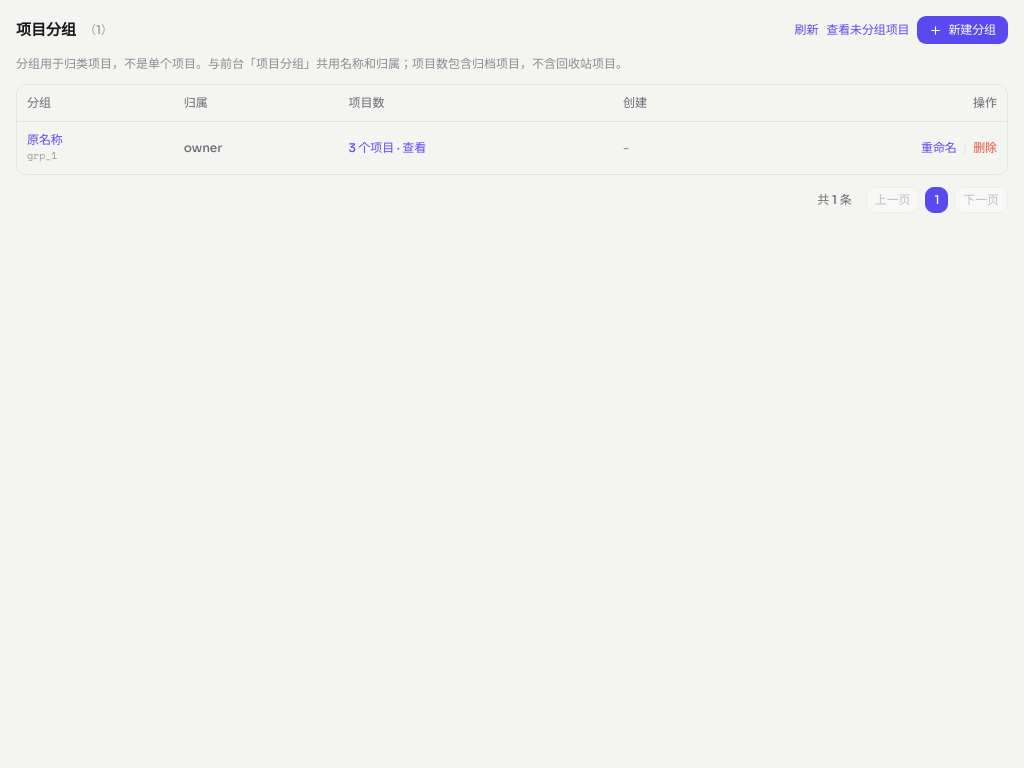
Scenario: project group rename › does not reopen a closed group when a refresh finishes late
Step 1. Click the button "原名称" → (45,140), box left=27, top=132, right=63, bottom=148
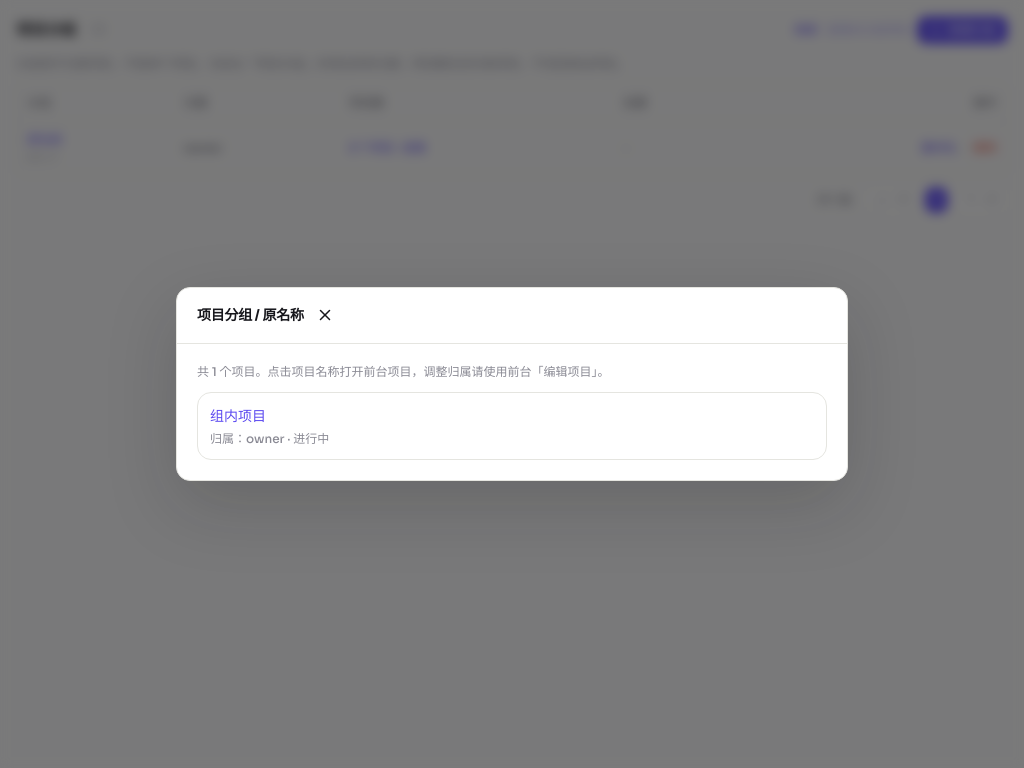
Result: the link "组内项目" is shown at left=210, top=407, right=266, bottom=425
Step 2. Click the button named "关闭组内项目" → (325,315), box left=316, top=306, right=334, bottom=324
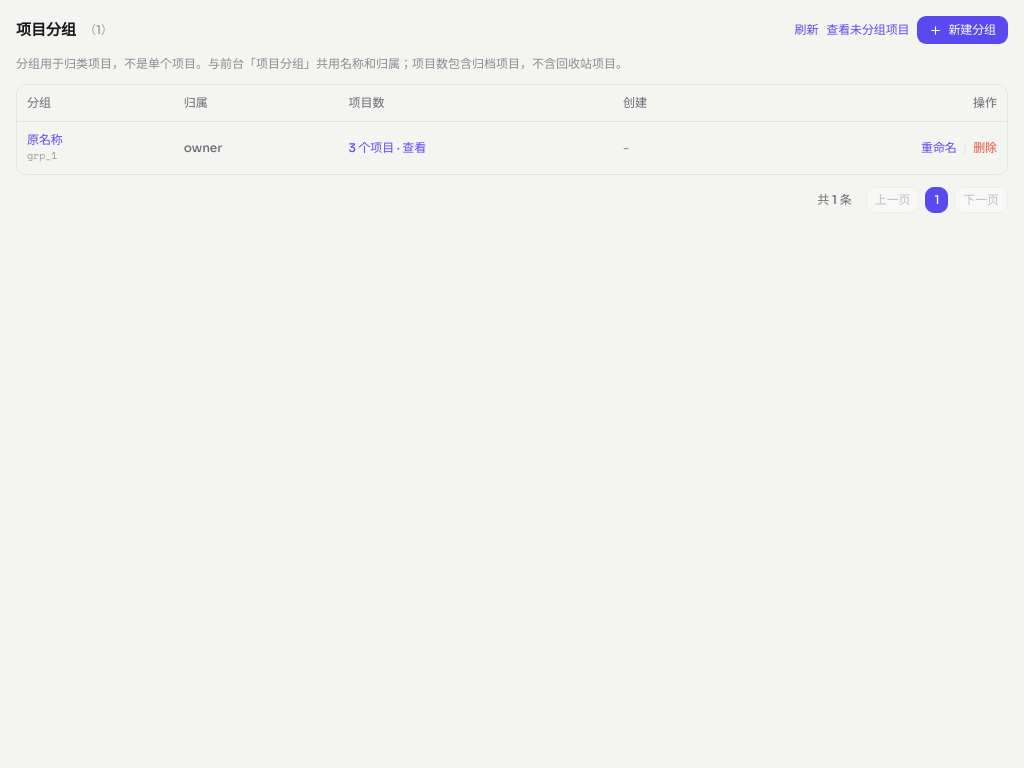
Result: the button "原名称" is enabled at left=27, top=132, right=63, bottom=148
Result: the dialog "分组内项目" is gone
